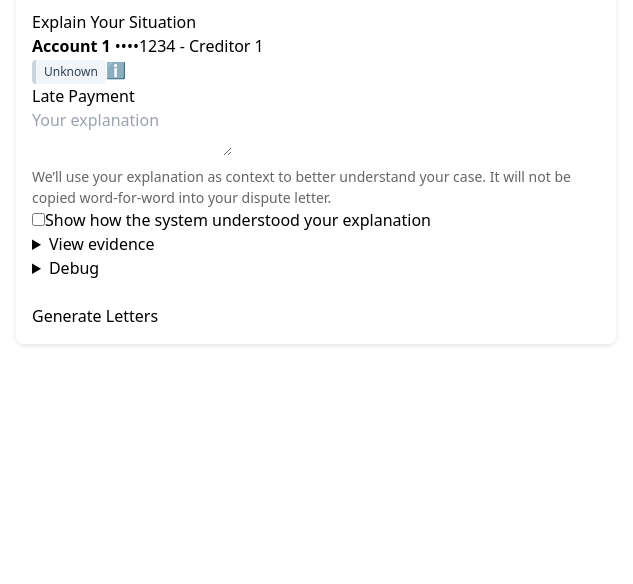
Test: renders evidence drawer when debug flag enabled
Click the heading "View evidence" at (102, 244), box [49,233,154,255]
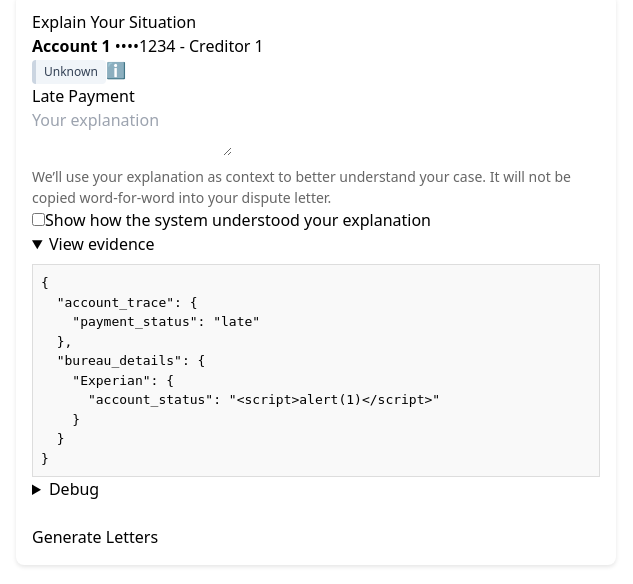
Expected: the text "<script>alert(1)</script>" is shown, [41,275,440,466]
